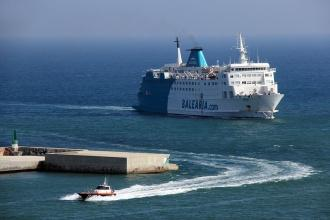otherboat: (74, 178, 119, 202)
youlun: (133, 37, 287, 118)
